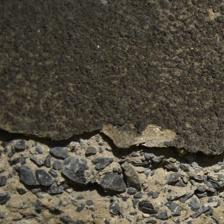Crack: (1, 61, 221, 110)
